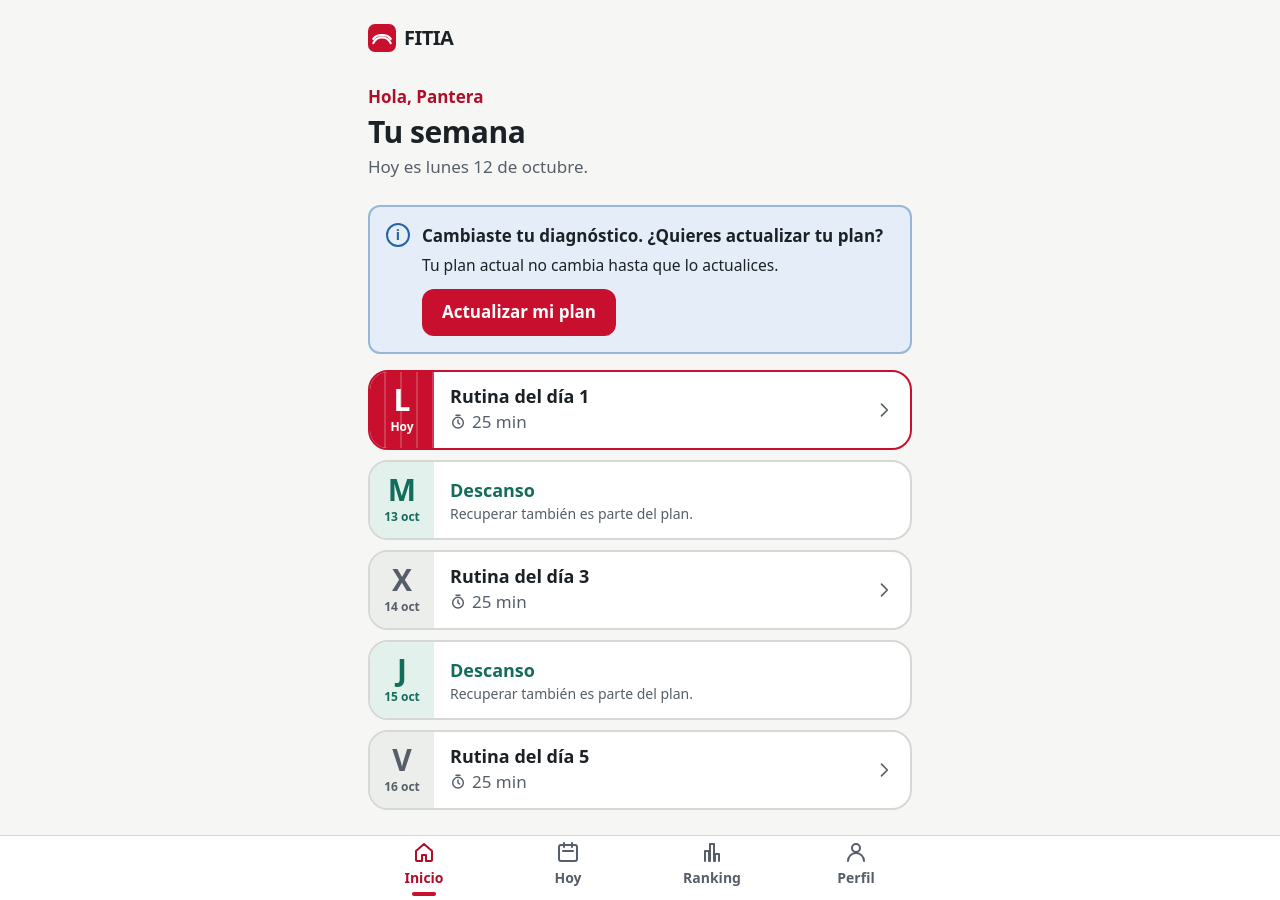
Scenario: HU 5 — plan semanal › actualizar con 429 REGENERATION_LIMIT dice cuándo podrá generar
Step 1. Click the button "Actualizar mi plan" → (519, 312), box [422,289,616,336]
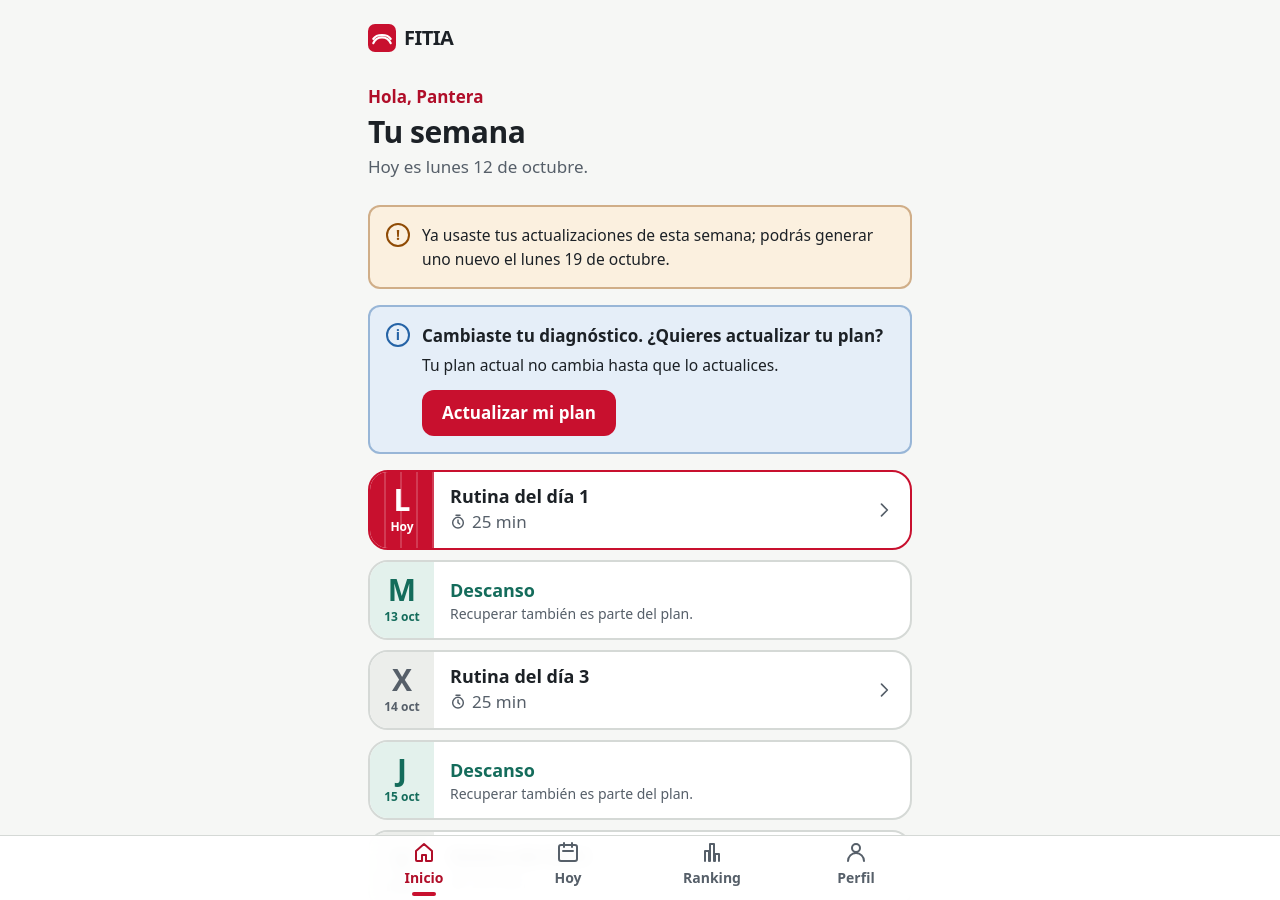
Expected: the text "podrás generar uno nuevo el lunes 19 de octubre" is shown, [422,223,894,271]
